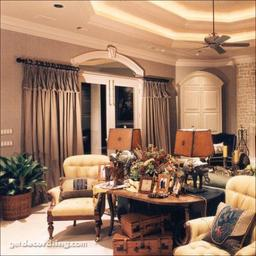Puerta: (184, 80, 223, 134)
Ventana: (80, 74, 140, 151)
